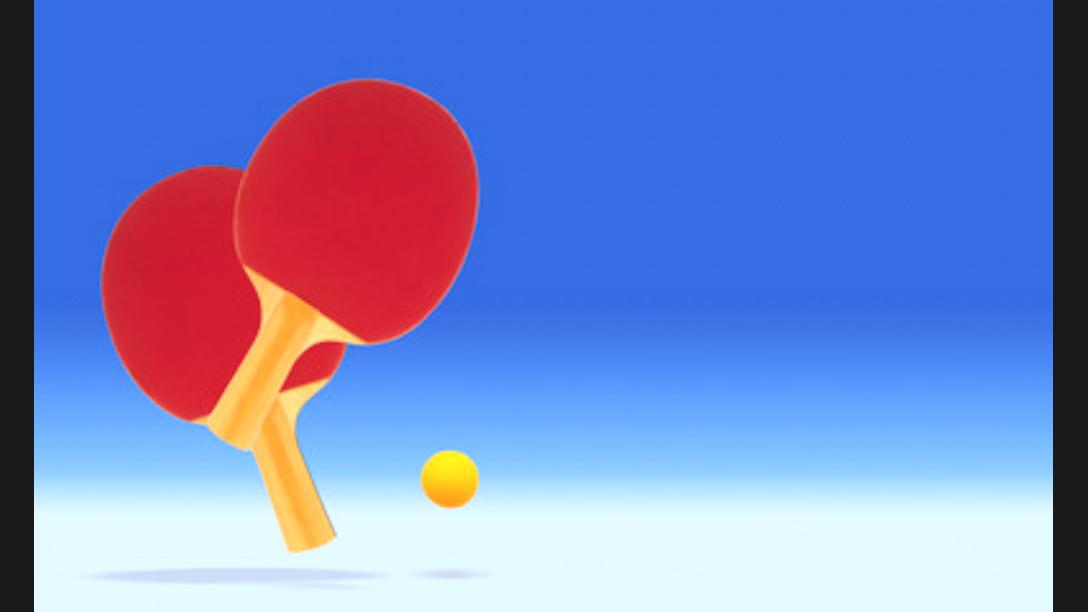Table-Tennis-Ball: (422, 449, 477, 507)
